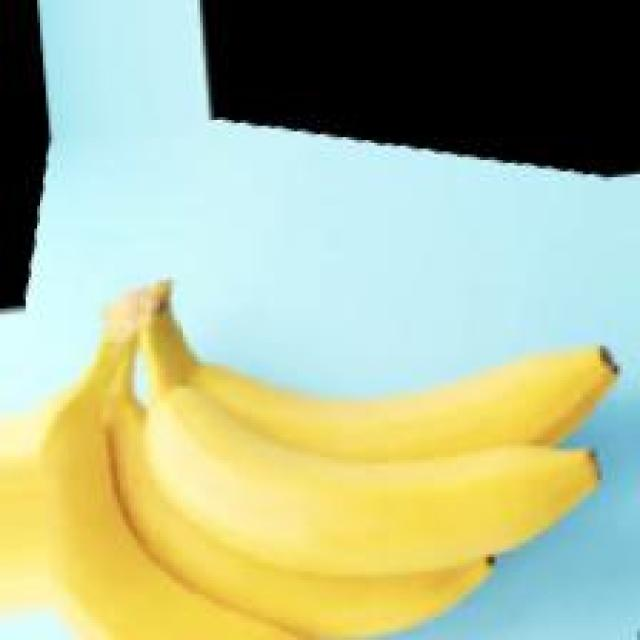banana: (21, 249, 634, 640)
